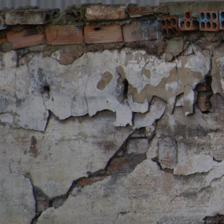Crack: (24, 46, 136, 138), (112, 91, 144, 224), (81, 50, 141, 84), (70, 33, 138, 60)
